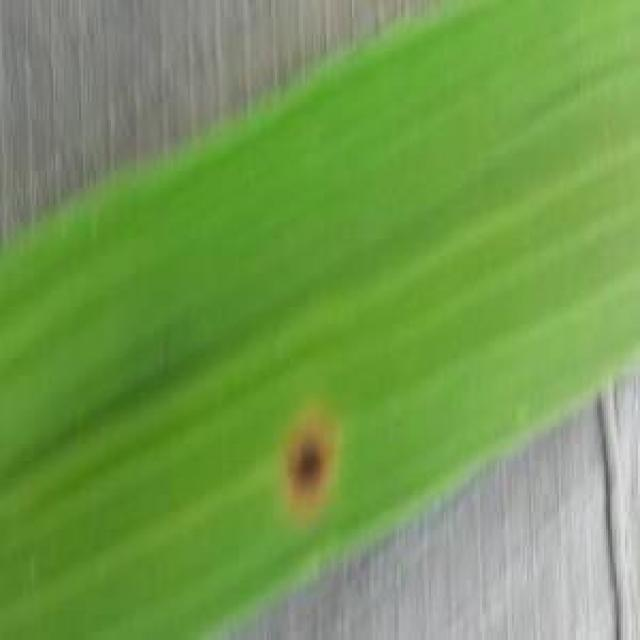brownspots: (273, 426, 337, 518)
